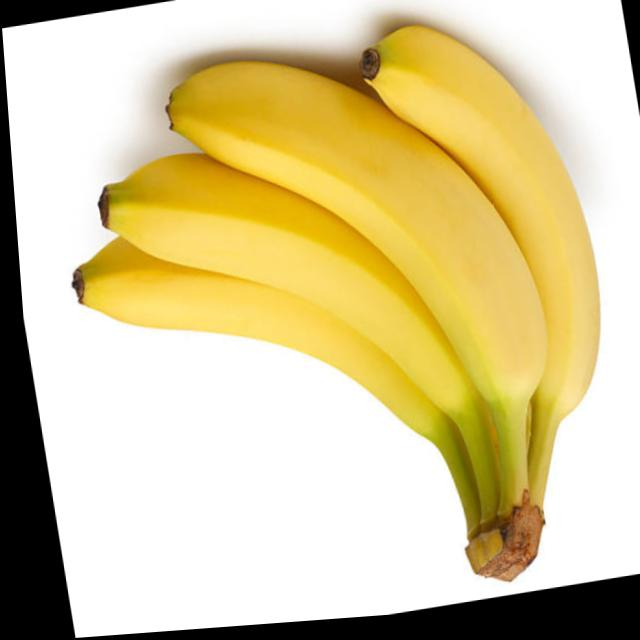BANANA: (76, 25, 597, 575)
